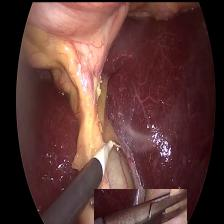Grasper: (93, 188, 186, 224)
Hook: (90, 135, 122, 177)
